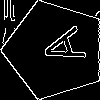A: (30, 25, 87, 71)
